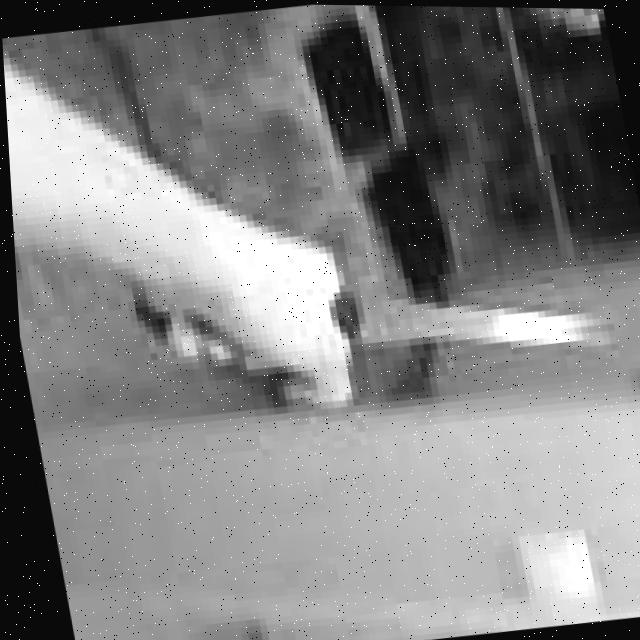knife: (319, 256, 621, 378)
